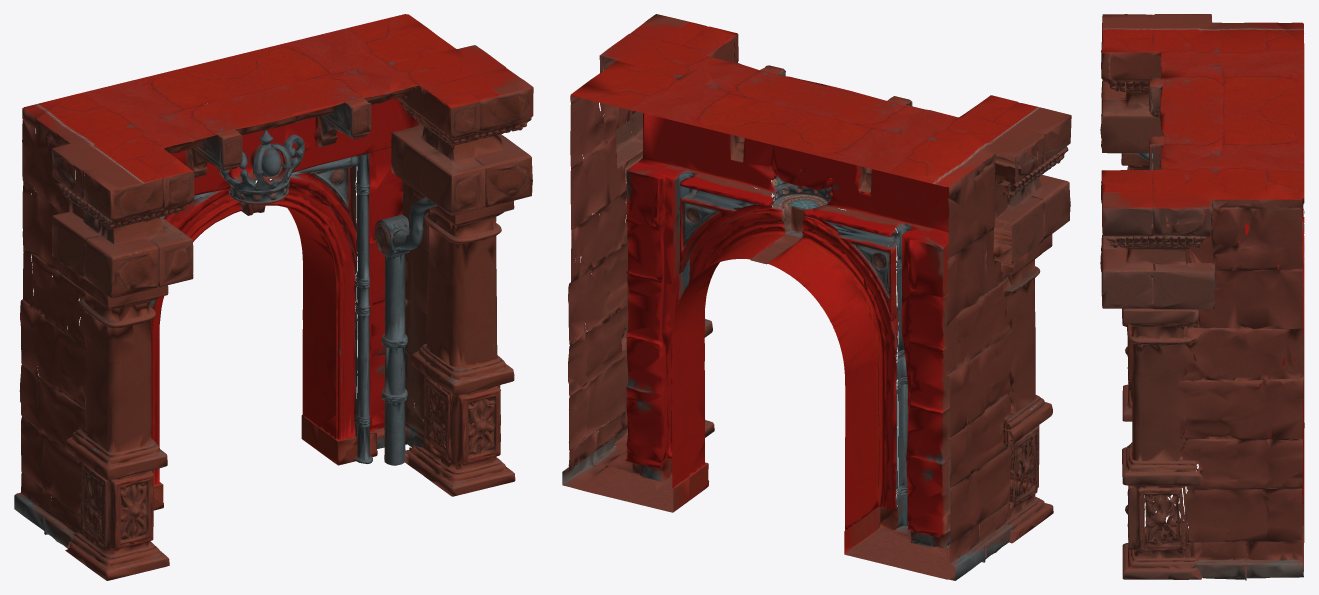
File: kiln_gate.glb
3 views of the same model, side by side, from view 1: azimuth 30°, elevation 25°; view 2: azimuth 150°, elevation 25°; view 3: azimuth 270°, elevation 25° (orthographic). The views are drawn at different scales.
Size of the model in its own units: 1.9 by 1.72 by 0.8391.
Materials: 1 (1 with a texture image).
